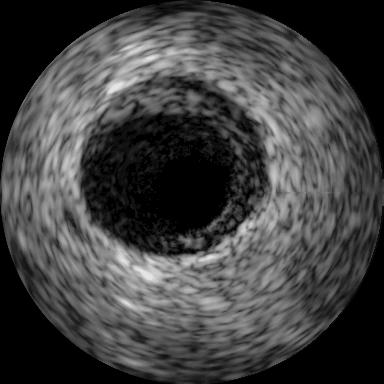Lumen: (153, 145, 235, 230)
